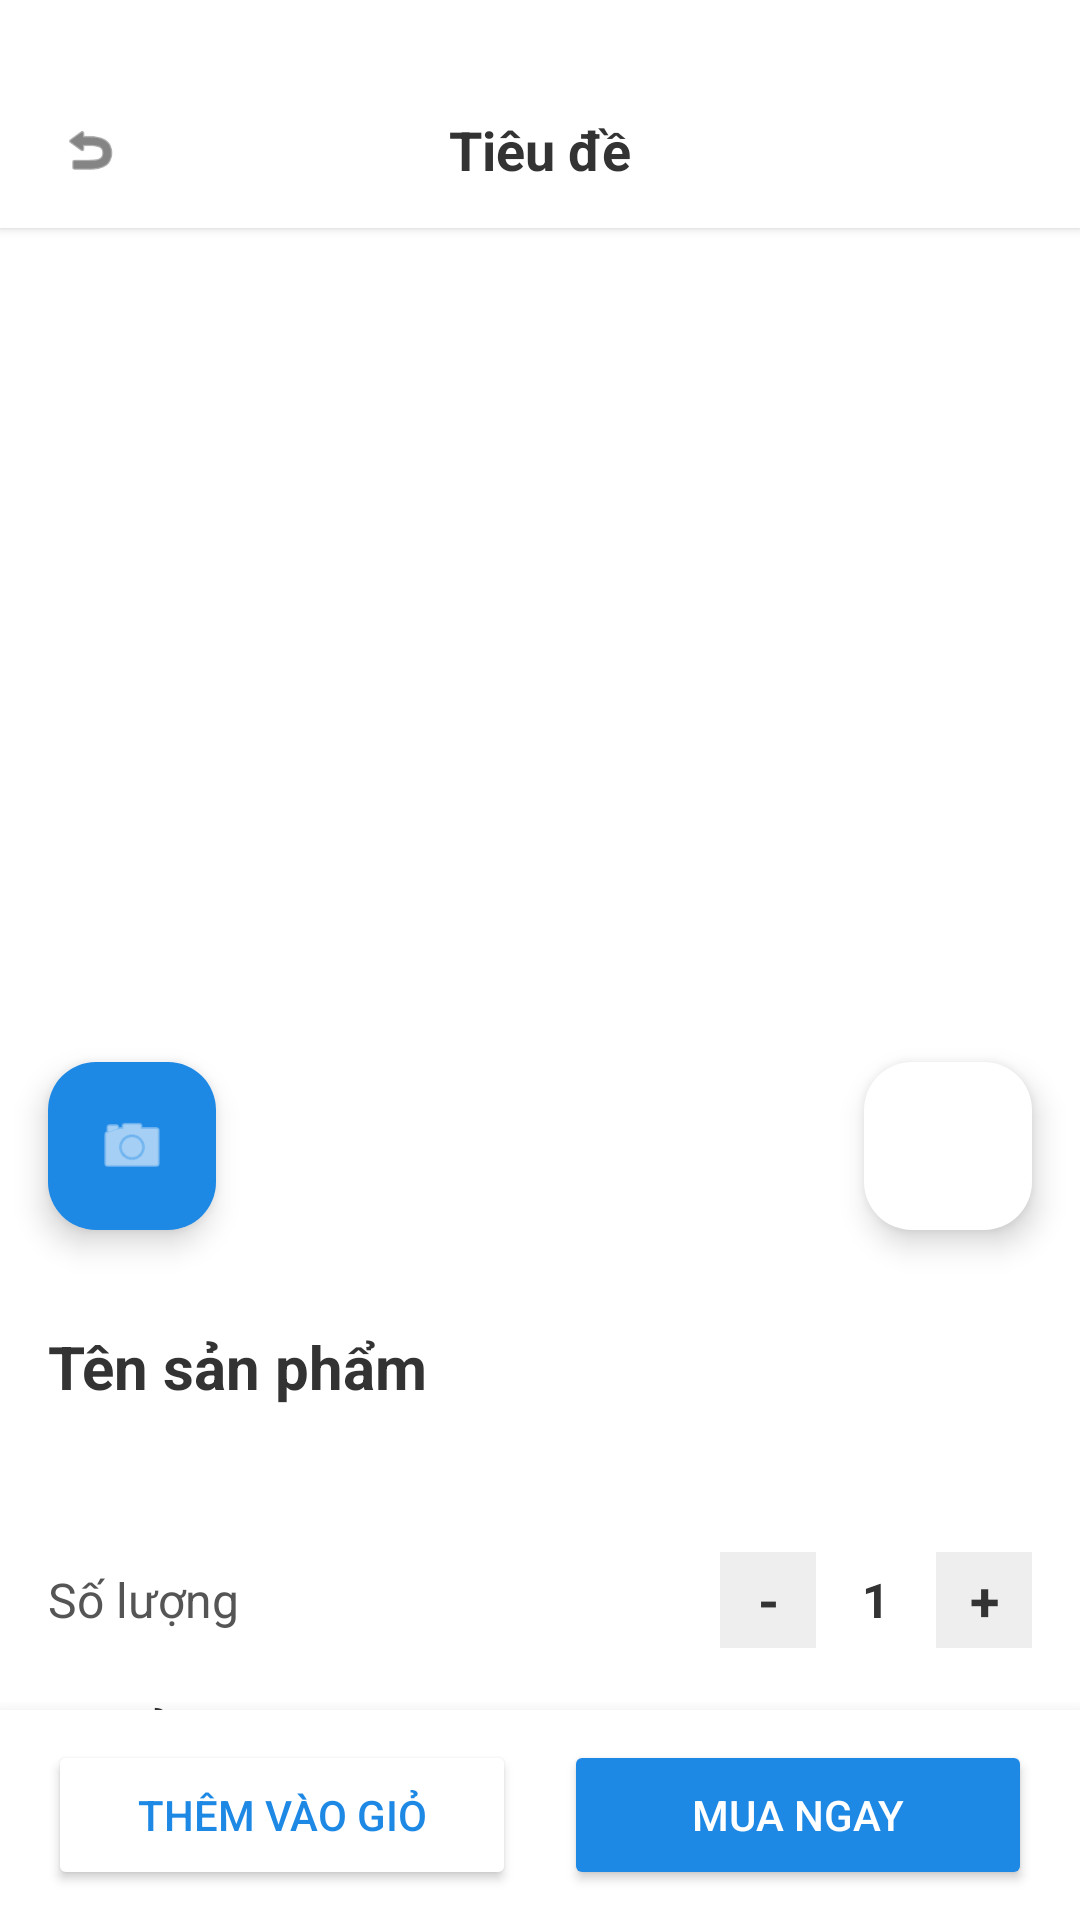

Icons on this 1080x1920 Android screen, each with its box as (x1,y1,x2,y2):
camera: (48,1062,216,1230)
revert: (69,131,112,170)
